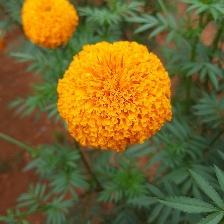marigold: (57, 41, 175, 152), (22, 1, 83, 49)
